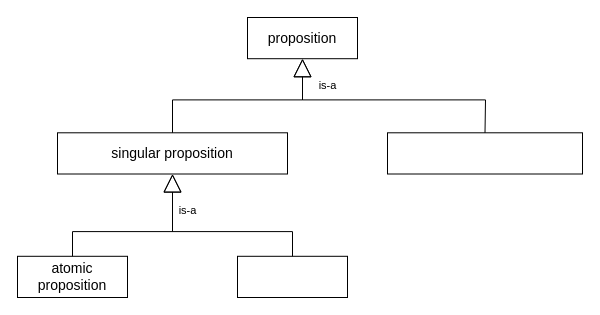
Some shapes in this 600 by 315 pixel diagram are drawn without their labels. Here are the shapes that lost their labels. From the top down, the centre of each, then its label:
At point (484, 153): "logical expression".
At point (292, 276): "predicate proposition".
